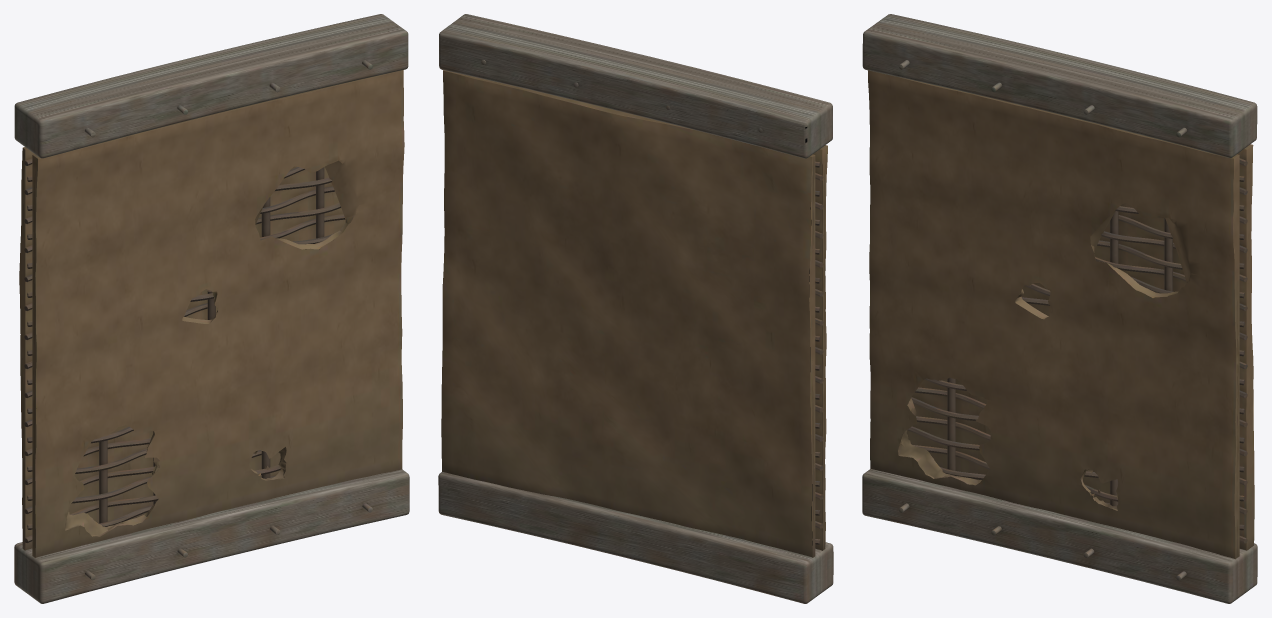
The model's file is wall_wattle_2m.glb.
3 renders of one model, left to right at view 1: azimuth 30°, elevation 25°; view 2: azimuth 150°, elevation 25°; view 3: azimuth 330°, elevation 25°, orthographic.
Visible parts, largest first — view 1: wall_wattle_2m; view 2: wall_wattle_2m; view 3: wall_wattle_2m.
Boxes of the visible parts, left/top/right/bottom form: wall_wattle_2m: left=14, top=14, right=409, bottom=603; wall_wattle_2m: left=438, top=14, right=833, bottom=603; wall_wattle_2m: left=862, top=14, right=1257, bottom=603.
Size of the model in its own units: 2.01 by 2.51 by 0.323.
1 material, 1 textured.
